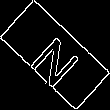N_NE: (24, 23, 86, 87)
